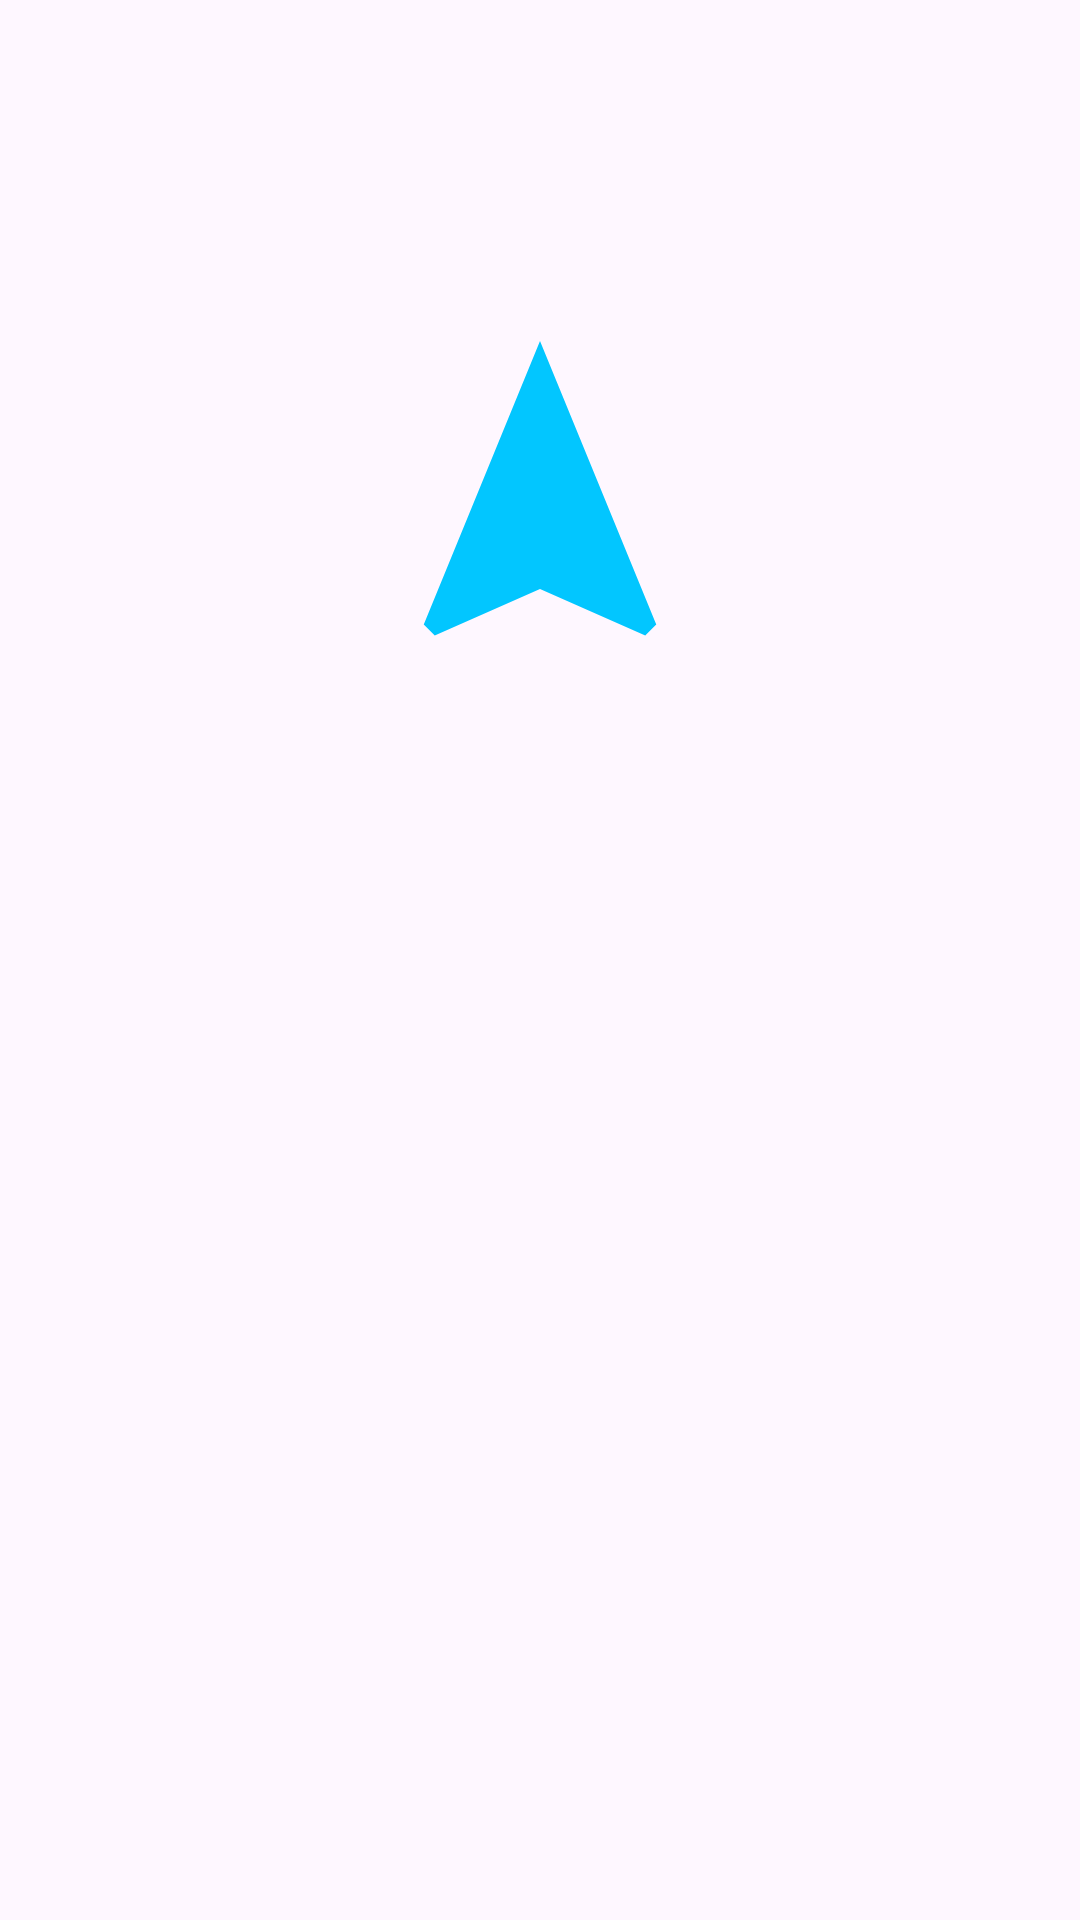

Icons on this 1080x1920 Android screen, each with the point to tap as point (x, y):
direction: point (540, 488)
